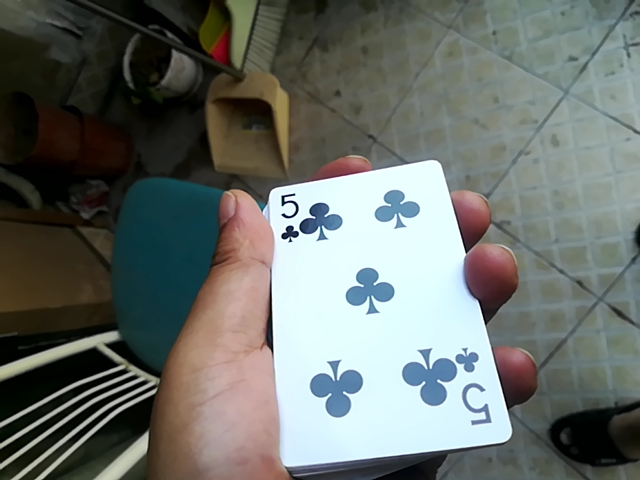mh 5: (265, 162, 498, 480)
